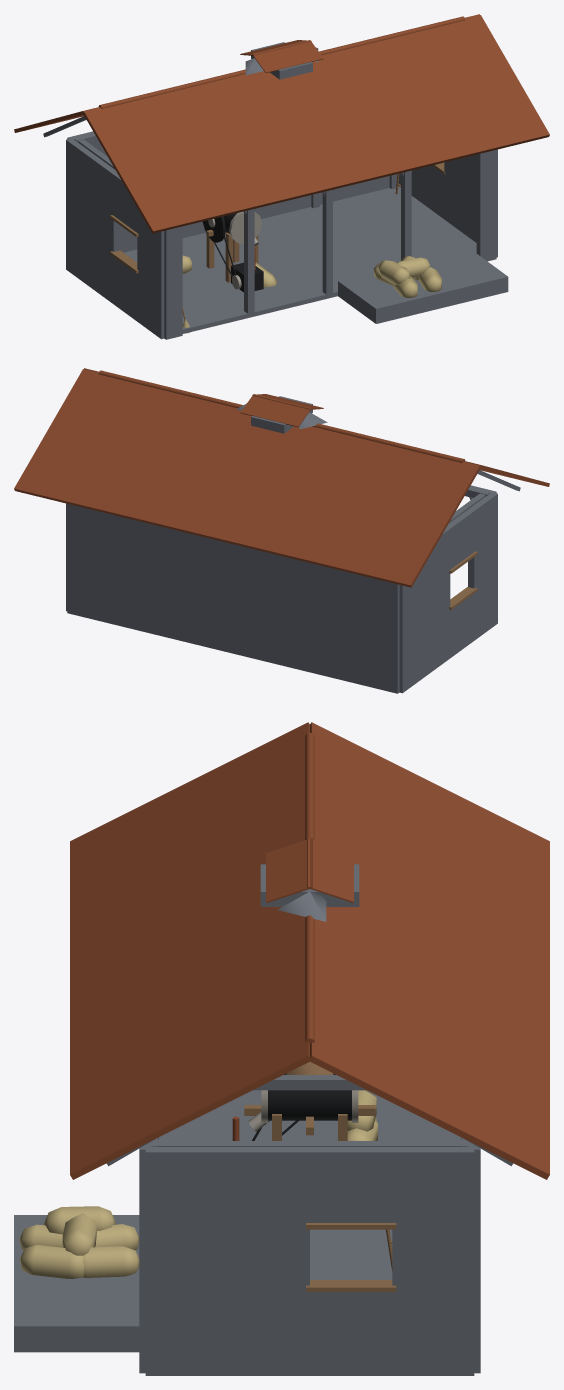
Rendered from small-vietnamese-rice-mill.glb.
The picture shows the model from 3 angles, top to bottom: view 1: azimuth 30°, elevation 25°; view 2: azimuth 150°, elevation 25°; view 3: azimuth 270°, elevation 25°; orthographic projection. The views are drawn at different scales.
Parts seen in each view (by area): view 1: Mesh_RoofA, Mesh_MainRoom_Floor, Mesh_MainRoom_WallRight_L, Mesh_LoadingPlatform, Mesh_MainRoom_WallRight_R, Mesh_MainRoom_WallLeft_R, Mesh_MainRoom_WallBack, Mesh_MainRoom_WallFront_L, Mesh_MainRoom_WallFront_R, Mesh_RidgeCap, Mesh_VentRoofF, Mesh_MainRoom_WallRight_Sill (+12 smaller); view 2: Mesh_RoofB, Mesh_MainRoom_WallBack, Mesh_MainRoom_WallRight_L, Mesh_MainRoom_WallRight_R, Mesh_RidgeCap, Mesh_VentRoofB, Mesh_MainRoom_WallRight_Sill, Mesh_MainRoom_WallRight_Lintel, Mesh_VentBase, Mesh_RoofA; view 3: Mesh_RoofB, Mesh_RoofA, Mesh_MainRoom_WallLeft_R, Mesh_MainRoom_WallLeft_L, Mesh_LoadingPlatform, Mesh_MainRoom_Floor, Mesh_MainRoom_WallLeft_Sill, Mesh_MainRoom_WallLeft_Lintel, Mesh_MillingChamber, Mesh_RidgeCap, Mesh_VentRoofF, Mesh_VentRoofB (+13 smaller).
Part boxes in pixels (x1,y1,x2,y2): Mesh_RoofA: [83, 15, 549, 233]; Mesh_MainRoom_Floor: [124, 186, 476, 333]; Mesh_MainRoom_WallRight_L: [66, 138, 119, 303]; Mesh_LoadingPlatform: [338, 249, 508, 323]; Mesh_MainRoom_WallRight_R: [137, 208, 164, 339]; Mesh_MainRoom_WallLeft_R: [444, 149, 497, 257]; Mesh_MainRoom_WallBack: [67, 131, 389, 252]; Mesh_MainRoom_WallFront_L: [476, 150, 496, 261]; Mesh_MainRoom_WallFront_R: [164, 226, 182, 339]; Mesh_RidgeCap: [98, 16, 465, 108]; Mesh_VentRoofF: [252, 40, 323, 73]; Mesh_MainRoom_WallRight_Sill: [113, 257, 137, 321]; Mesh_RoofB: [14, 369, 480, 587]; Mesh_MainRoom_WallBack: [67, 504, 399, 693]; Mesh_MainRoom_WallRight_L: [399, 528, 450, 693]; Mesh_MainRoom_WallRight_R: [468, 492, 497, 640]; Mesh_RidgeCap: [98, 370, 465, 462]; Mesh_VentRoofB: [240, 394, 311, 427]; Mesh_MainRoom_WallRight_Sill: [450, 593, 474, 657]; Mesh_MainRoom_WallRight_Lintel: [446, 509, 474, 569]; Mesh_VentBase: [251, 396, 312, 433]; Mesh_RoofA: [84, 368, 549, 486]; Mesh_RoofB: [309, 722, 549, 1179]; Mesh_RoofA: [70, 722, 310, 1179]; Mesh_MainRoom_WallLeft_R: [145, 1147, 309, 1375]; Mesh_MainRoom_WallLeft_L: [392, 1147, 474, 1375]; Mesh_LoadingPlatform: [14, 1215, 139, 1352]; Mesh_MainRoom_Floor: [158, 1090, 461, 1279]; Mesh_MainRoom_WallLeft_Sill: [308, 1292, 393, 1375]; Mesh_MainRoom_WallLeft_Lintel: [308, 1147, 393, 1222]; Mesh_MillingChamber: [268, 1073, 351, 1120]; Mesh_RidgeCap: [305, 732, 314, 1043]; Mesh_VentRoofF: [266, 838, 312, 903]; Mesh_VentRoofB: [307, 838, 353, 902].
Size of the model in its own units: 9.6 by 5.1 by 6.52.
1 material, 1 textured.
